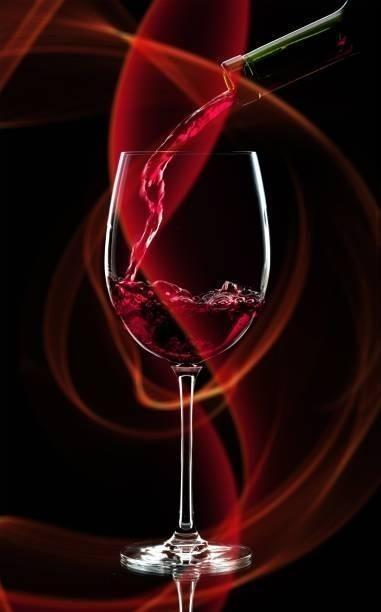glass-wine: (102, 143, 273, 575)
